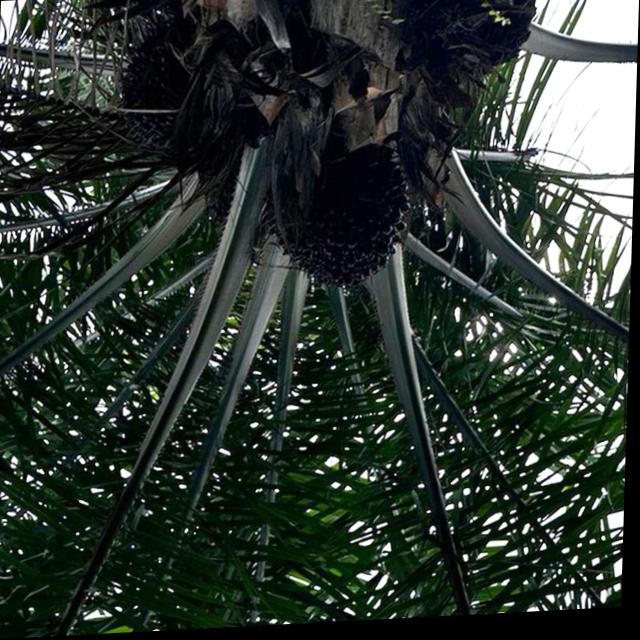ripe: (273, 168, 410, 306)
